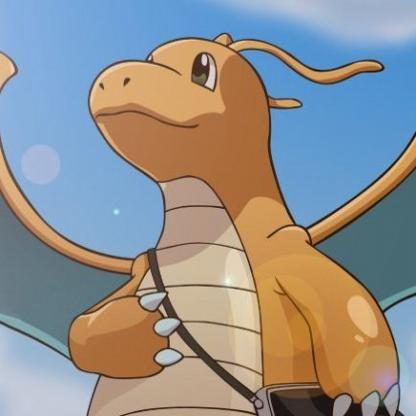Dragonite: (7, 26, 416, 416)
